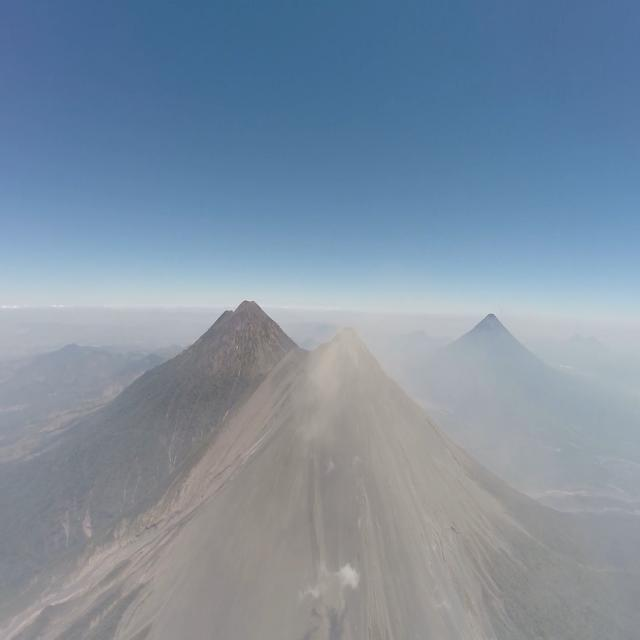Plume: (295, 298, 364, 458)
Summit: (313, 324, 384, 369)
